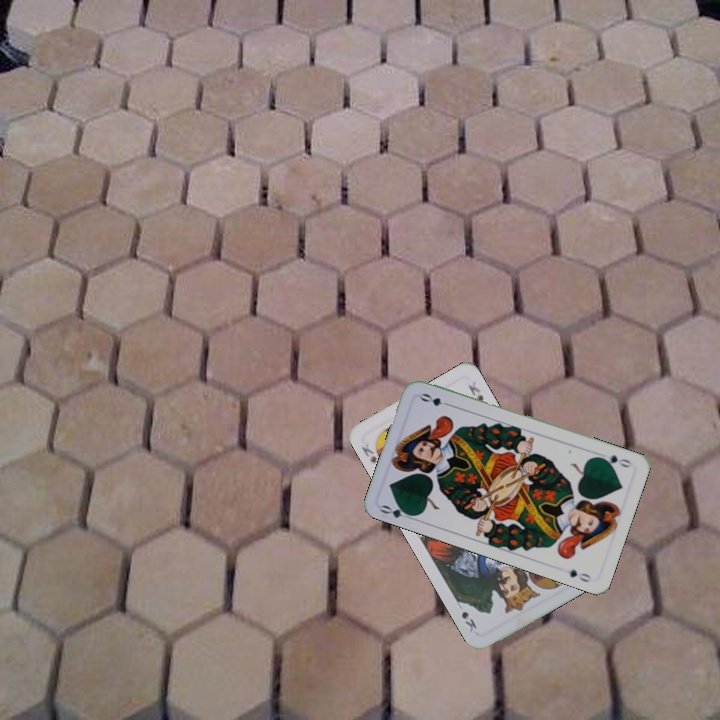GO: (376, 500, 417, 523), (594, 451, 634, 470)
SK: (357, 439, 379, 467)
